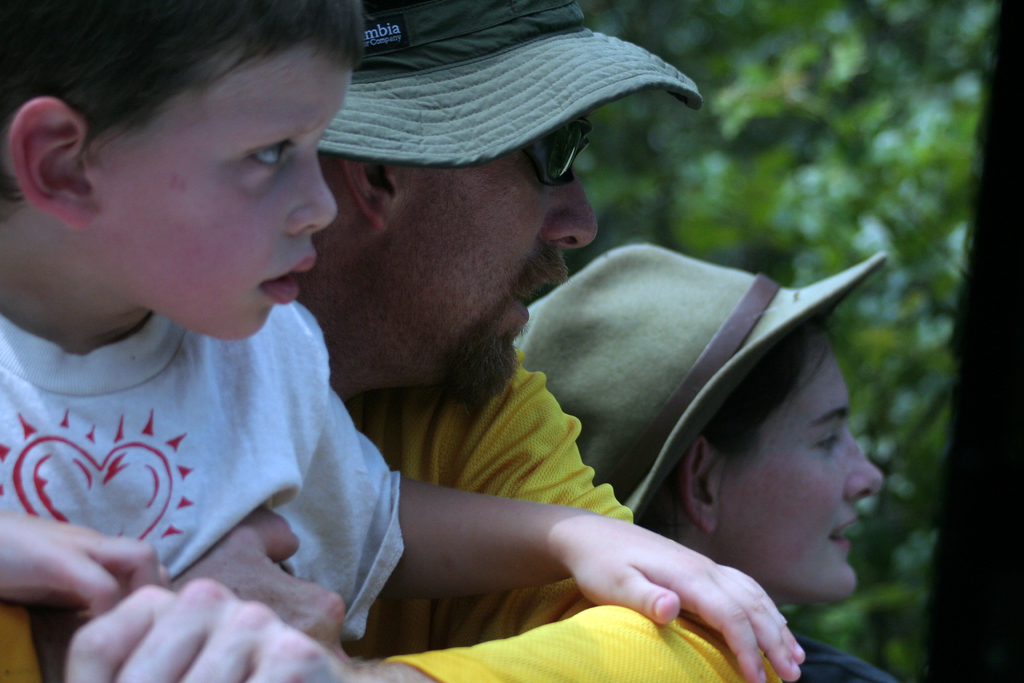Human_hand: (526, 509, 820, 664), (62, 574, 358, 682), (175, 502, 348, 662), (0, 515, 171, 616)
